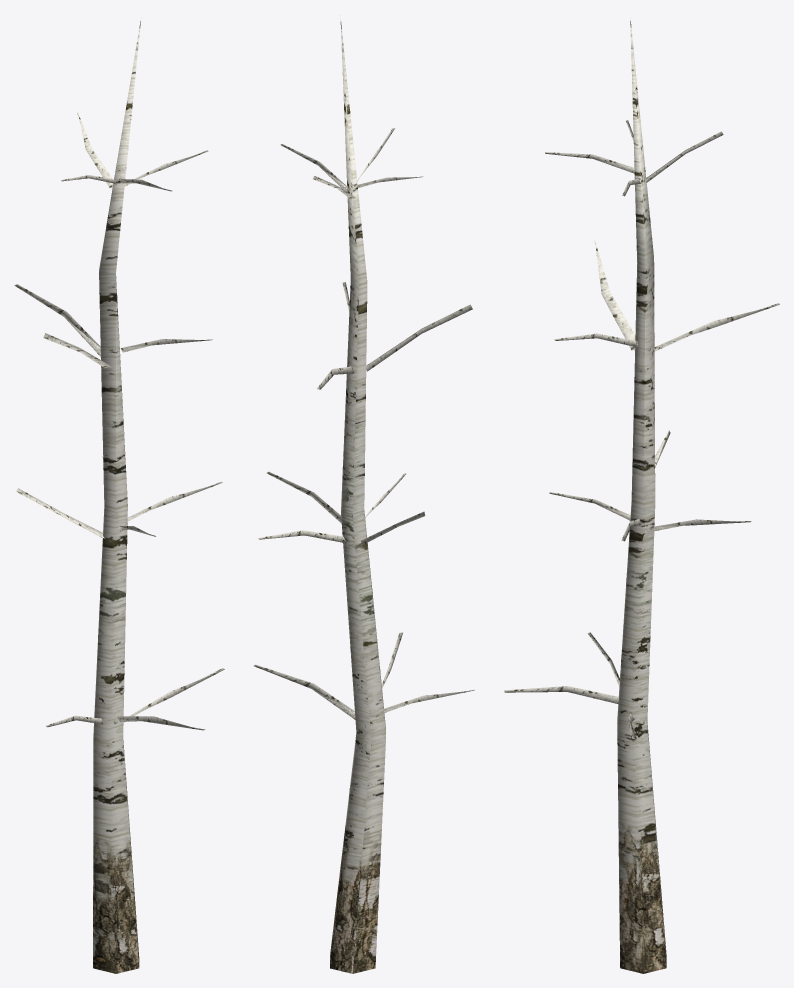
File: TreeBig_LOD2.FBX
3 renders of one model, left to right at view 1: azimuth 30°, elevation 25°; view 2: azimuth 150°, elevation 25°; view 3: azimuth 270°, elevation 25°, orthographic.
Parts seen in each view (by area): view 1: Cylinder002; view 2: Cylinder002; view 3: Cylinder002.
Part boxes in pixels (bbox=[...]): Cylinder002: bbox=[14, 15, 224, 973]; Cylinder002: bbox=[254, 15, 474, 973]; Cylinder002: bbox=[504, 17, 779, 973].
Size of the model in its own units: 26.37 by 119 by 31.07.
1 material, 1 textured.
